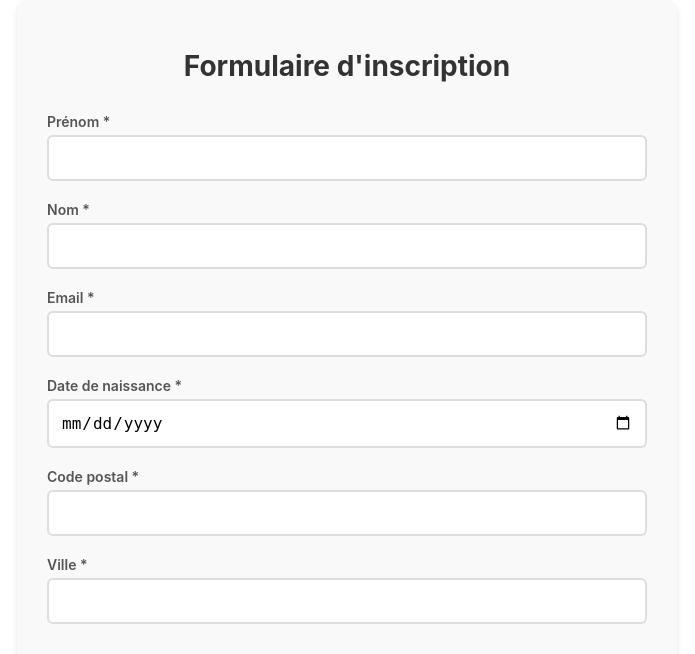
Test case: UserForm - Tests d'intégration › Tests du DOM et accessibilité › les erreurs sont visibles et identifiables avec role="alert"
In the field labelled "Email *": x=347, y=334 x1=47 y1=311 x2=647 y2=357, type "invalide"
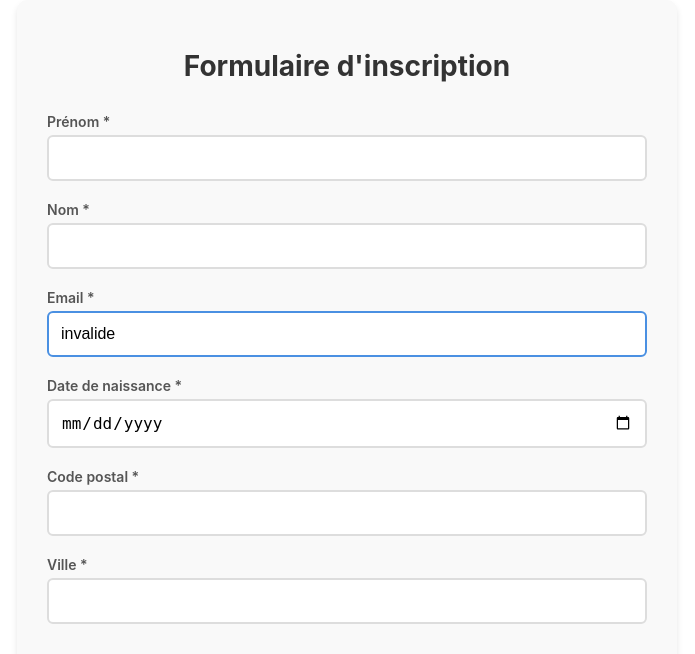
Press Tab
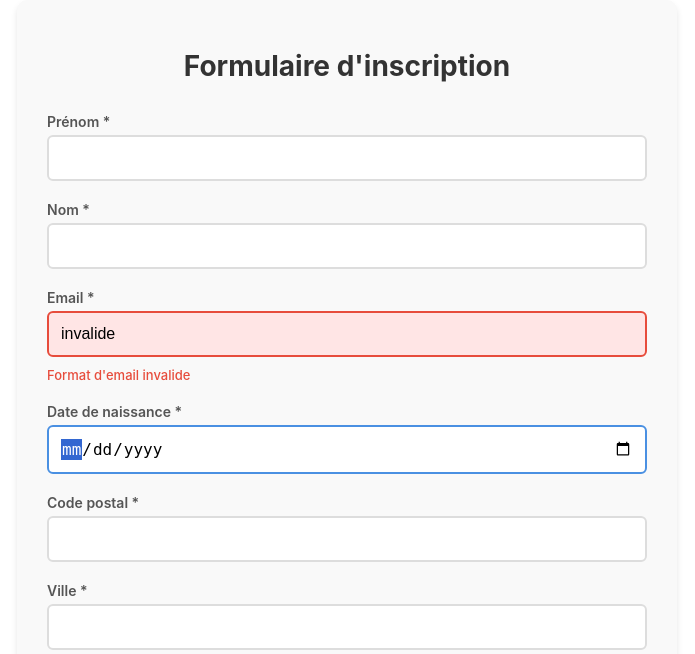
Expected: the message "Format d'email invalide" is shown, x1=47 y1=367 x2=190 y2=383
